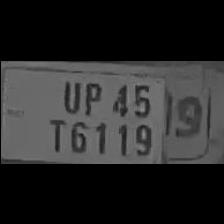1: (90, 116, 110, 154), (110, 117, 128, 155)
4: (107, 78, 129, 118)
5: (128, 80, 152, 120)
6: (65, 118, 89, 152)
9: (130, 118, 154, 156)
P: (80, 76, 104, 114)
T: (43, 114, 66, 152)
U: (58, 76, 82, 113)
